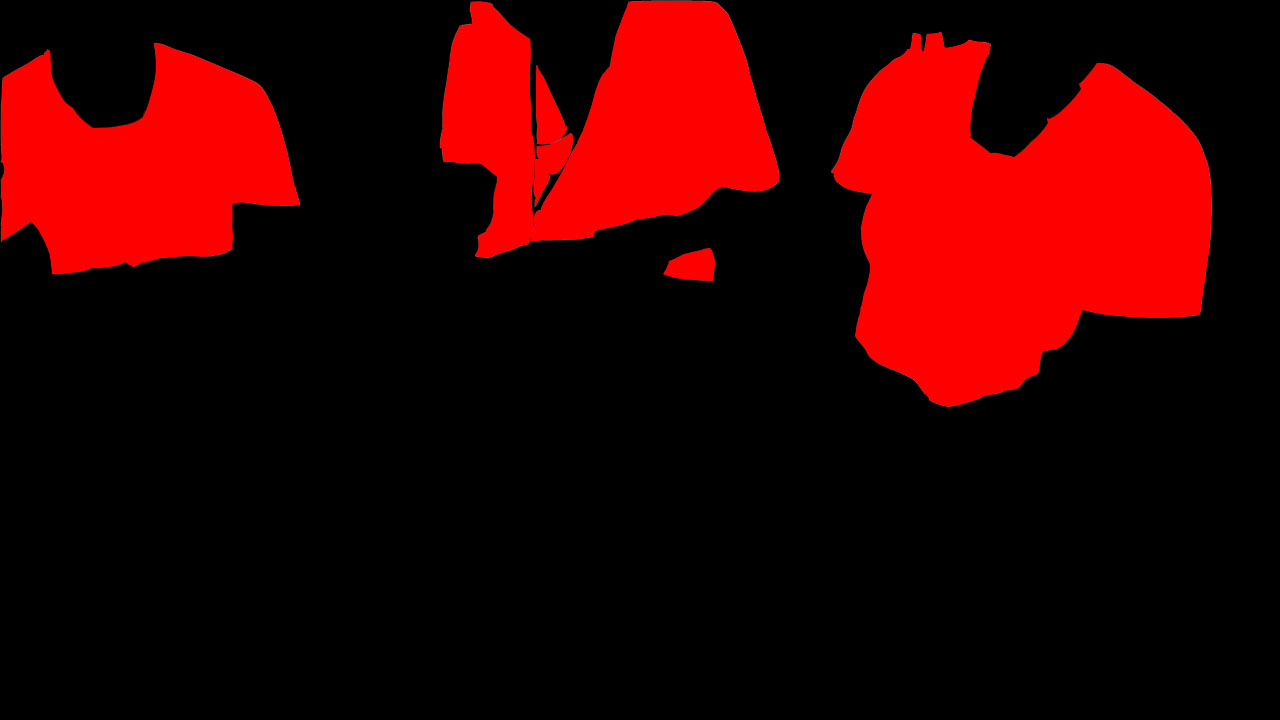uniforme_ifmt: (832, 45, 1212, 412), (432, 4, 784, 280), (2, 49, 304, 279)
